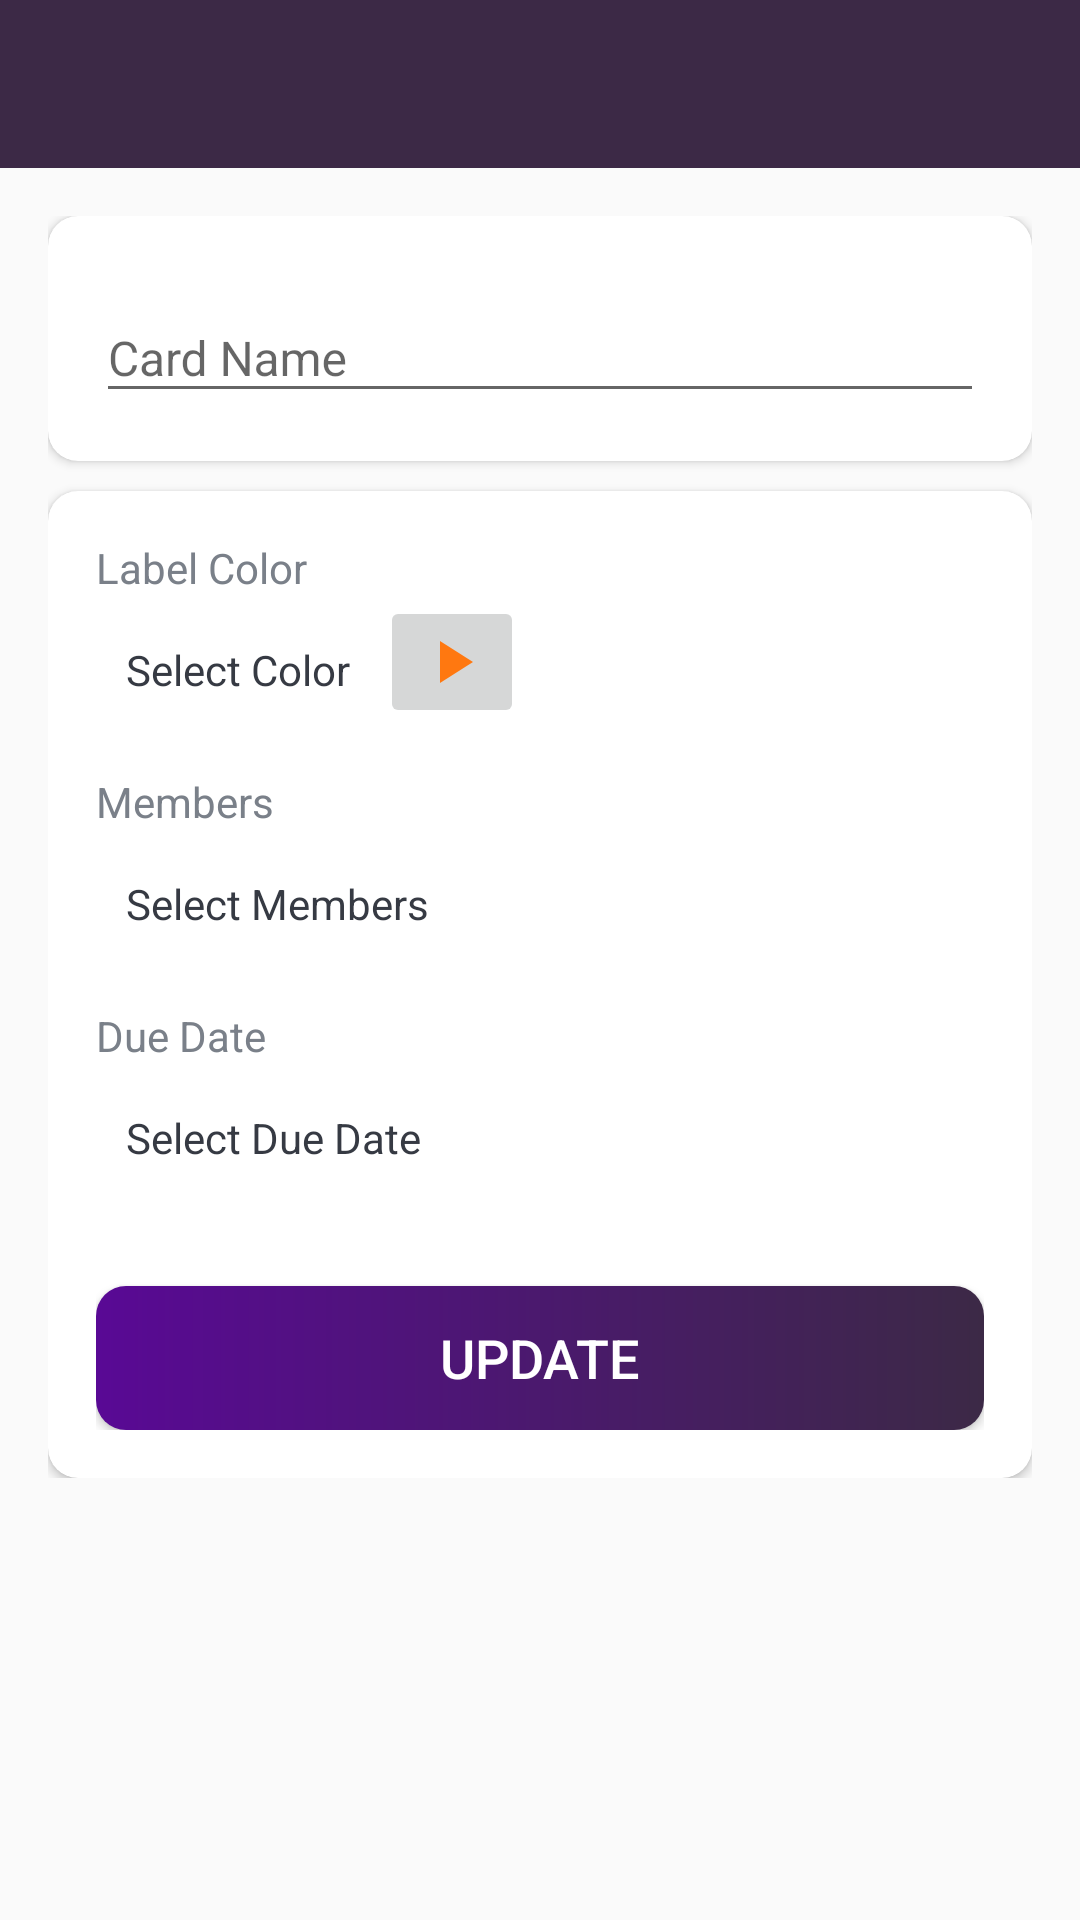

Icons on this 1080x1920 Android screen, each with the point to tap as (x,y):
play arrow: (452,662)
